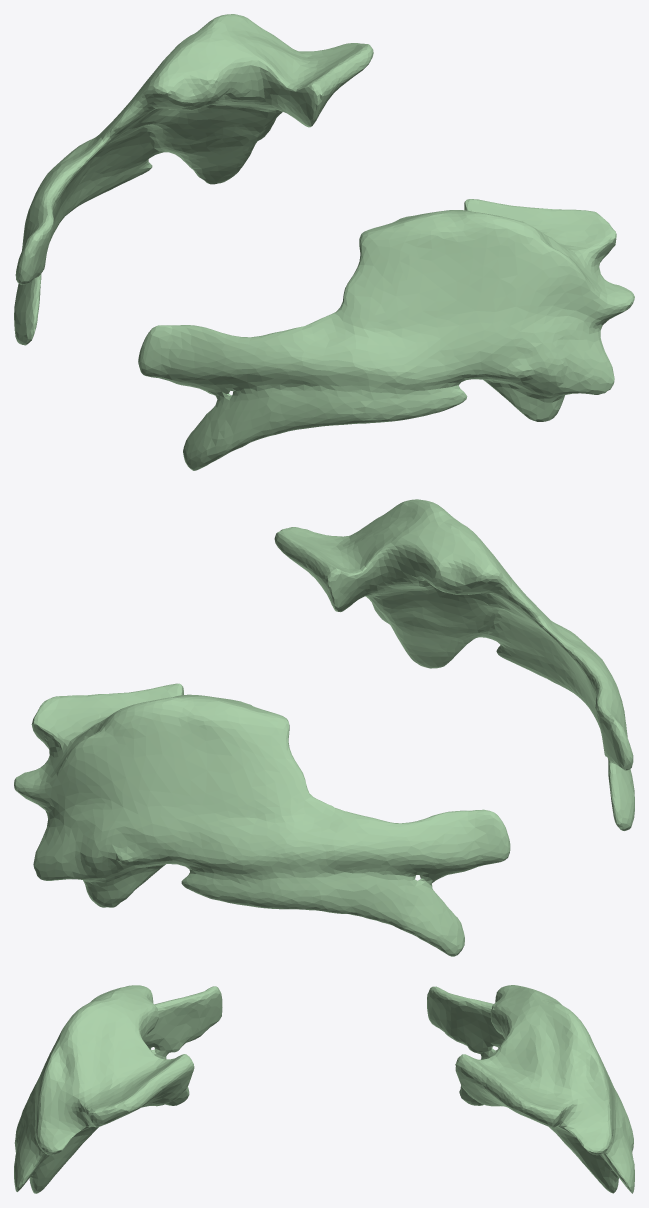
The picture shows the model from 3 angles, top to bottom: view 1: azimuth 30°, elevation 25°; view 2: azimuth 150°, elevation 25°; view 3: azimuth 270°, elevation 25°; orthographic projection. The views are drawn at different scales.
Parts seen in each view (by area): view 1: 703.obj; view 2: 703.obj; view 3: 703.obj.
Part boxes in pixels (x1=…): 703.obj: x1=14, y1=14, x2=634, y2=470; 703.obj: x1=14, y1=499, x2=634, y2=956; 703.obj: x1=14, y1=985, x2=634, y2=1193.
Bounding box in the file's own units: 5667 × 3049 × 8370.
